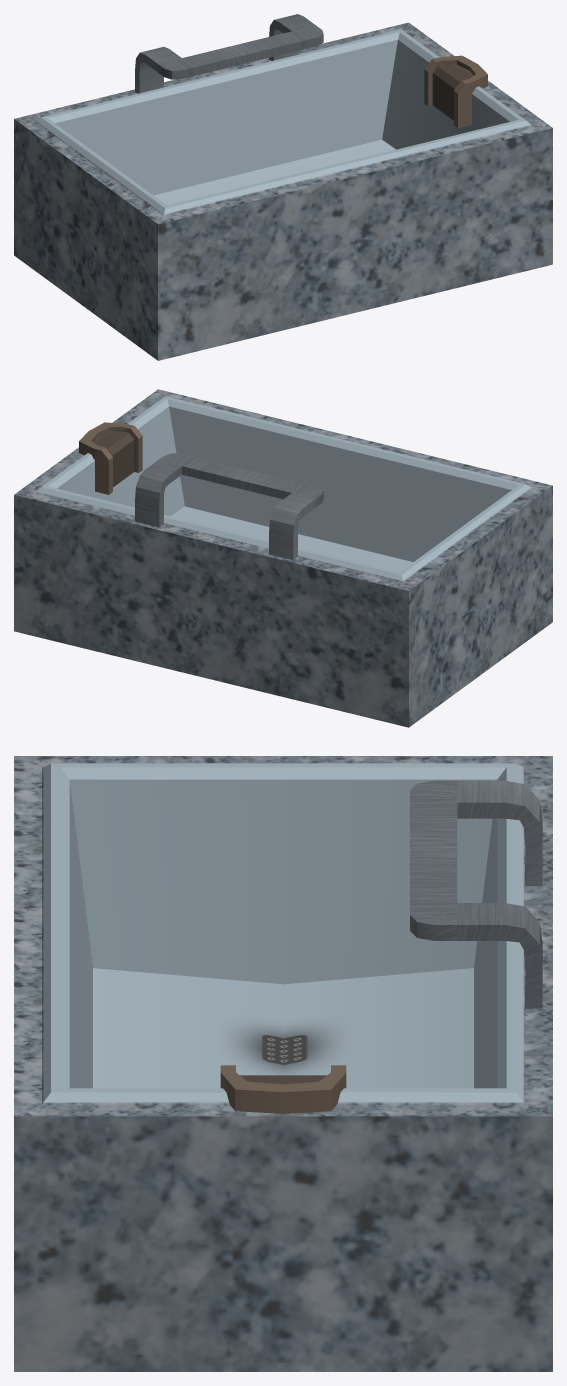
File: ModBathTub.fbx
3 views of the same model, one above another, from view 1: azimuth 30°, elevation 25°; view 2: azimuth 150°, elevation 25°; view 3: azimuth 270°, elevation 25° (orthographic). The views are drawn at different scales.
Visible parts, largest first — view 1: polySurface36; view 2: polySurface36; view 3: polySurface36.
Boxes of the visible parts, <box> form: polySurface36: <box>14,14,552,360</box>; polySurface36: <box>14,389,552,727</box>; polySurface36: <box>14,756,552,1371</box>.
Bounding box in the file's own units: 4.59 × 2.01 × 2.9.
1 material, 1 textured.
